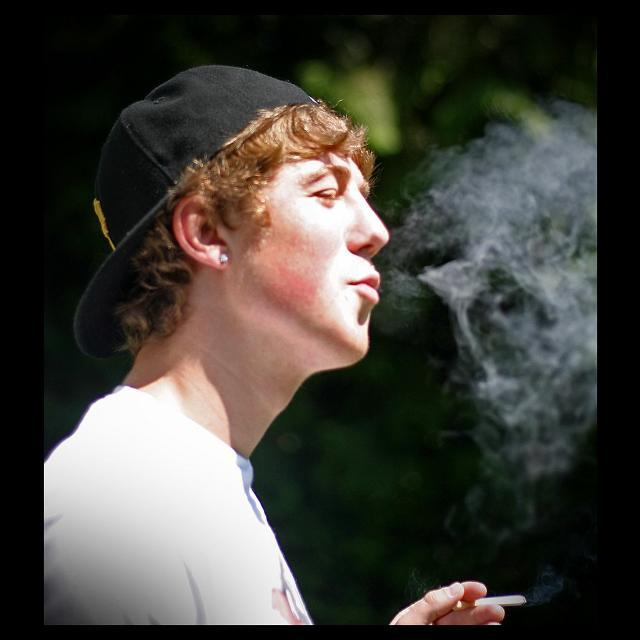rokok: (456, 587, 528, 615)
